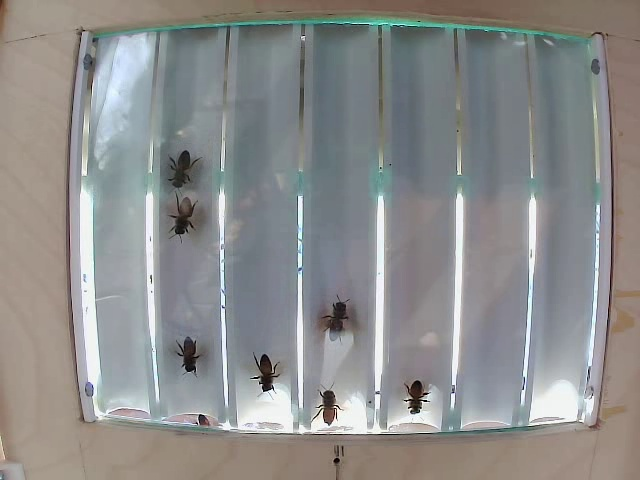bee: (318, 279, 351, 347), (159, 171, 200, 224), (242, 355, 288, 401), (166, 140, 203, 186), (310, 385, 345, 423), (396, 385, 429, 411), (168, 351, 202, 372)
